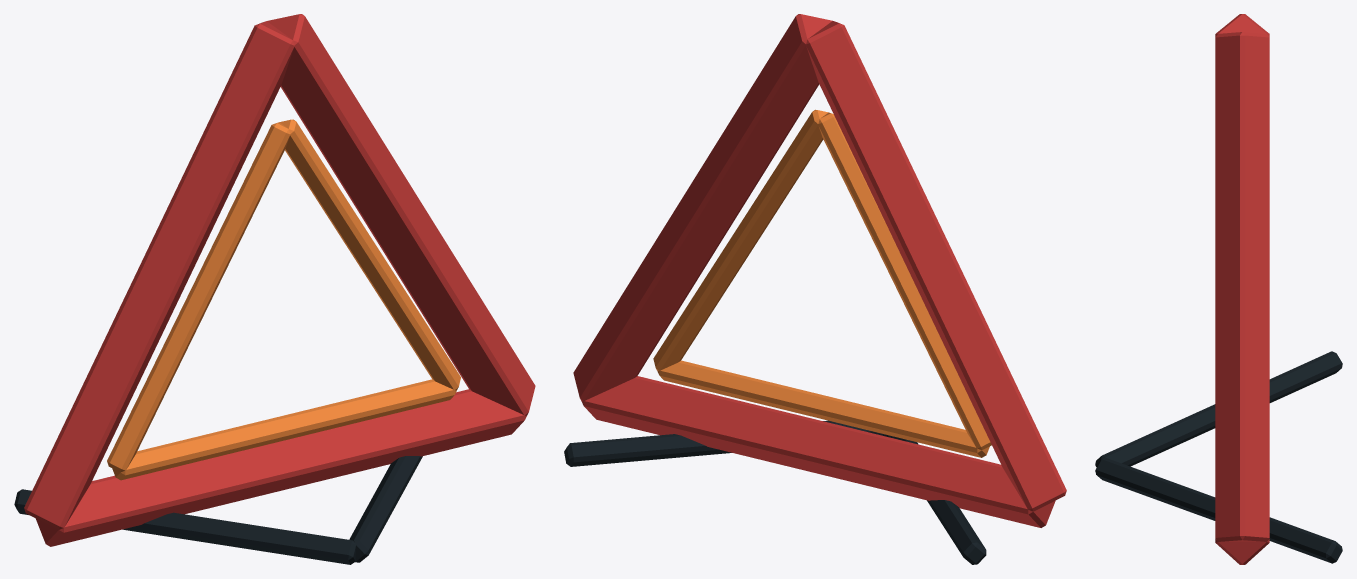
File: b02_folding_warning_triangle.glb
The picture shows the model from 3 angles, left to right: view 1: azimuth 30°, elevation 25°; view 2: azimuth 150°, elevation 25°; view 3: azimuth 270°, elevation 25°; orthographic projection. The views are drawn at different scales.
Parts seen in each view (by area): view 1: b02_folding_warning_triangle; view 2: b02_folding_warning_triangle; view 3: b02_folding_warning_triangle.
Boxes of the visible parts, bbox=[...] form: b02_folding_warning_triangle: bbox=[14, 14, 535, 564]; b02_folding_warning_triangle: bbox=[564, 14, 1066, 564]; b02_folding_warning_triangle: bbox=[1095, 14, 1342, 564].
Bounding box in the file's own units: 0.6953 × 0.6397 × 0.3154.
